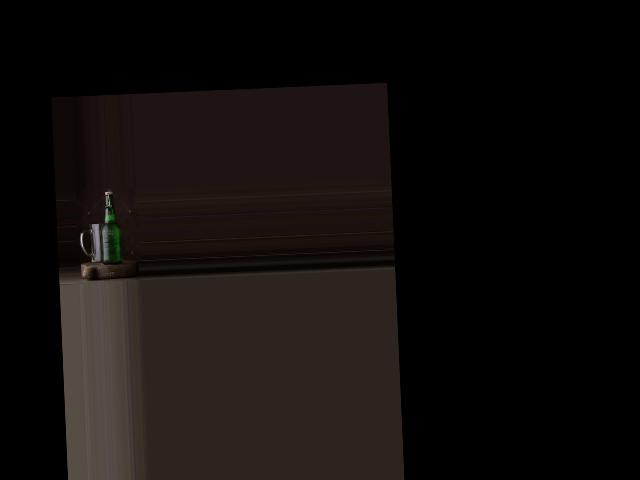beer: (98, 191, 122, 264)
